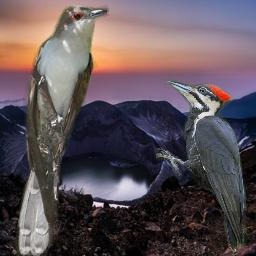Cuckoo: (15, 2, 110, 256)
Woodpecker: (156, 79, 252, 255)
